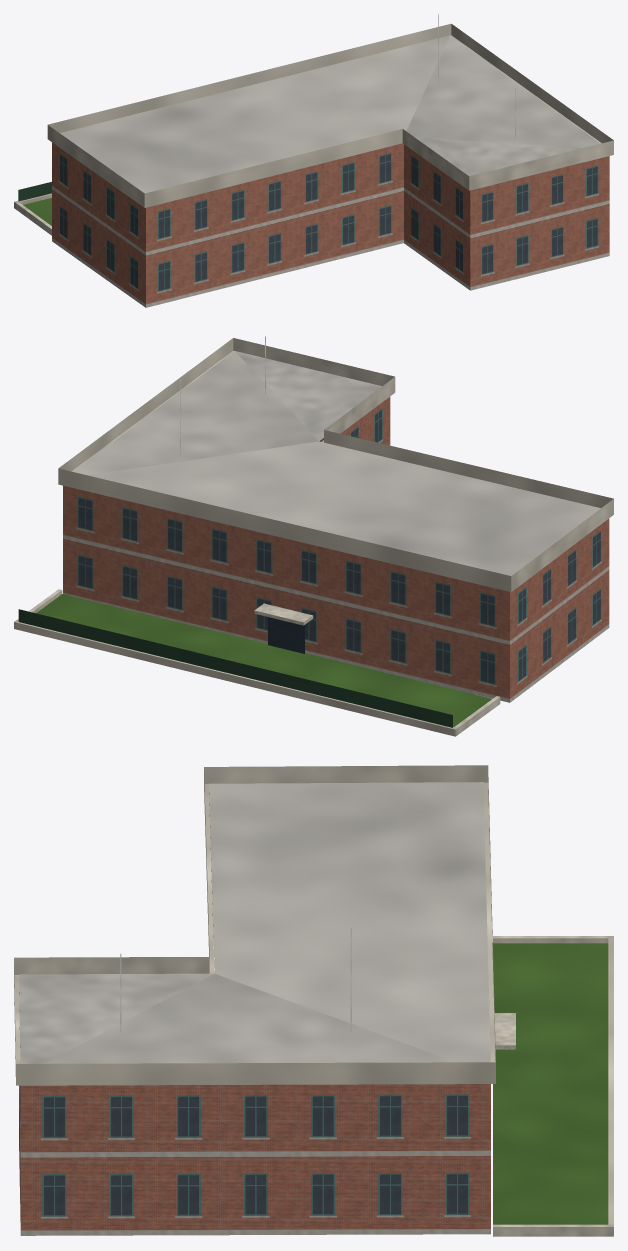
The model's file is SM_MoloItalia_Capitaneria_v2_LOD2.fbx.
The picture shows the model from 3 angles, top to bottom: view 1: azimuth 30°, elevation 25°; view 2: azimuth 150°, elevation 25°; view 3: azimuth 270°, elevation 25°; orthographic projection. The views are drawn at different scales.
Parts seen in each view (by area): view 1: SM_MoloItalia_Capitaneria_v2_LOD2; view 2: SM_MoloItalia_Capitaneria_v2_LOD2; view 3: SM_MoloItalia_Capitaneria_v2_LOD2.
Part boxes in pixels (box(x1,y1,x2,y2)): SM_MoloItalia_Capitaneria_v2_LOD2: box(14, 14, 613, 307); SM_MoloItalia_Capitaneria_v2_LOD2: box(14, 336, 613, 736); SM_MoloItalia_Capitaneria_v2_LOD2: box(14, 765, 613, 1236).
Size of the model in its own units: 3681 by 3125 by 1515.
Materials: 2 (2 with a texture image).
